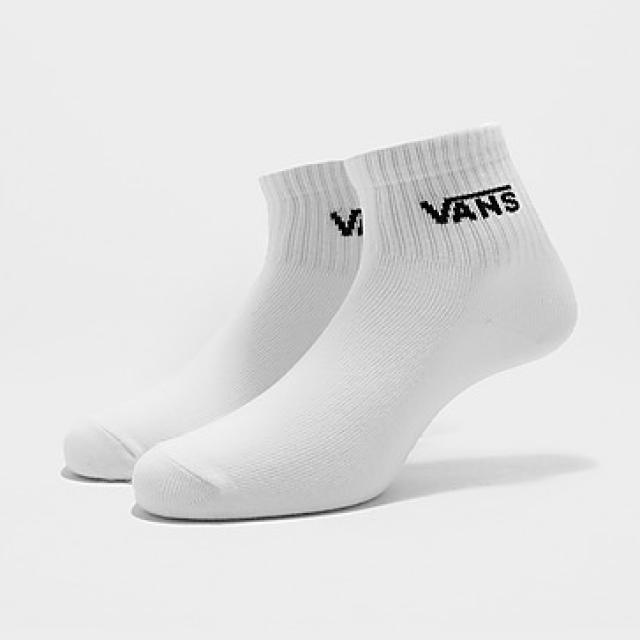sock: (129, 120, 578, 522), (62, 157, 363, 481)
